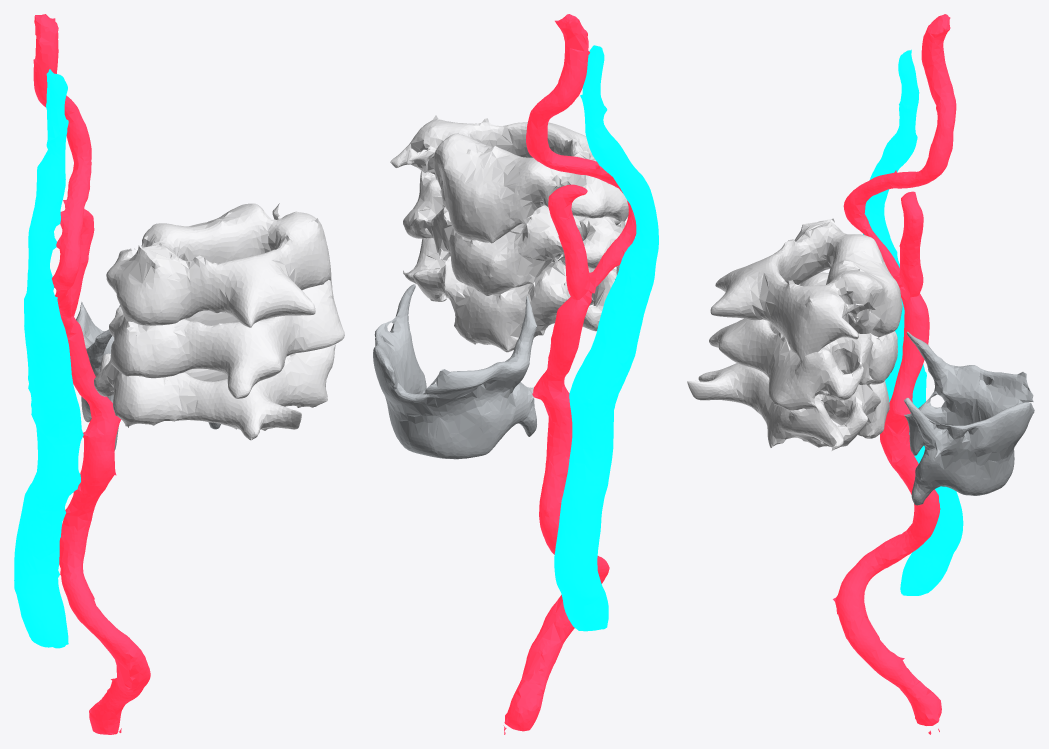
The model's file is carotis-left-mobil.glb.
3 views of the same model, side by side, from view 1: azimuth 30°, elevation 25°; view 2: azimuth 150°, elevation 25°; view 3: azimuth 270°, elevation 25° (orthographic). The views are drawn at different scales.
Parts seen in each view (by area): view 1: 0:3:V_jugularis_interna_sinistra, 0:5:Vertebra_C3, 0:6:Vertebra_C4, 0:7:Vertebra_C5, 0:0:A_carotis_communis_sinistra, 0:1:A_carotis_interna_sinistra, 0:4:Cartilago_thyroidea, 0:2:A_carotis_externa_sinistra; view 2: 0:3:V_jugularis_interna_sinistra, 0:5:Vertebra_C3, 0:4:Cartilago_thyroidea, 0:0:A_carotis_communis_sinistra, 0:6:Vertebra_C4, 0:7:Vertebra_C5, 0:1:A_carotis_interna_sinistra, 0:2:A_carotis_externa_sinistra; view 3: 0:5:Vertebra_C3, 0:4:Cartilago_thyroidea, 0:0:A_carotis_communis_sinistra, 0:6:Vertebra_C4, 0:3:V_jugularis_interna_sinistra, 0:7:Vertebra_C5, 0:1:A_carotis_interna_sinistra, 0:2:A_carotis_externa_sinistra.
Boxes of the visible parts, x1,y1,x2,y2 form: 0:3:V_jugularis_interna_sinistra: (14, 69, 83, 648); 0:5:Vertebra_C3: (106, 203, 331, 327); 0:6:Vertebra_C4: (109, 279, 344, 398); 0:7:Vertebra_C5: (94, 344, 335, 440); 0:0:A_carotis_communis_sinistra: (59, 316, 150, 734); 0:1:A_carotis_interna_sinistra: (33, 14, 91, 318); 0:4:Cartilago_thyroidea: (76, 302, 220, 450); 0:2:A_carotis_externa_sinistra: (60, 209, 94, 316); 0:3:V_jugularis_interna_sinistra: (554, 45, 658, 631); 0:5:Vertebra_C3: (390, 115, 628, 243); 0:4:Cartilago_thyroidea: (373, 284, 536, 459); 0:0:A_carotis_communis_sinistra: (503, 290, 609, 734); 0:6:Vertebra_C4: (403, 171, 625, 295); 0:7:Vertebra_C5: (403, 238, 616, 352); 0:1:A_carotis_interna_sinistra: (526, 14, 636, 293); 0:2:A_carotis_externa_sinistra: (548, 184, 590, 299); 0:5:Vertebra_C3: (710, 218, 902, 362); 0:4:Cartilago_thyroidea: (904, 331, 1034, 505); 0:0:A_carotis_communis_sinistra: (833, 286, 941, 734); 0:6:Vertebra_C4: (709, 271, 897, 410); 0:3:V_jugularis_interna_sinistra: (863, 49, 963, 595); 0:7:Vertebra_C5: (687, 363, 889, 450); 0:1:A_carotis_interna_sinistra: (843, 14, 956, 287); 0:2:A_carotis_externa_sinistra: (899, 191, 923, 297).
Size of the model in its own units: 0.07 by 0.1784 by 0.0818.
